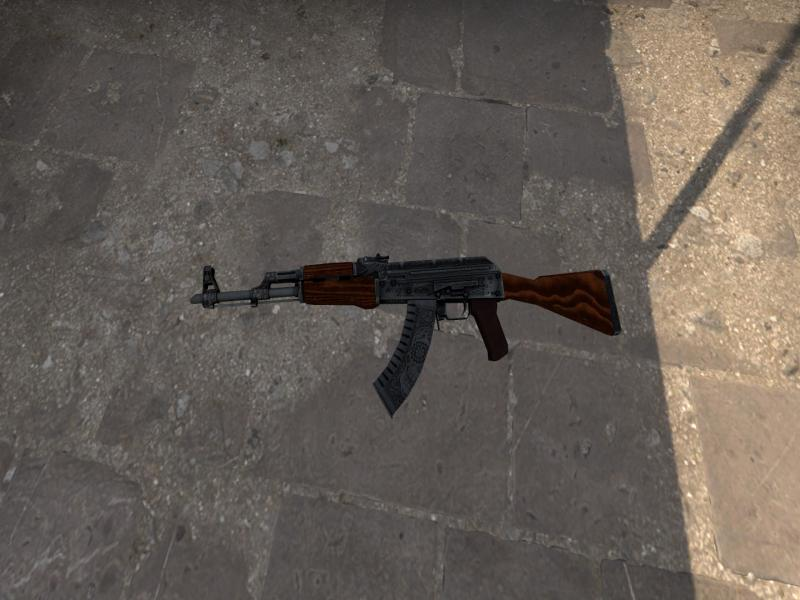AK47: (190, 254, 621, 414)
